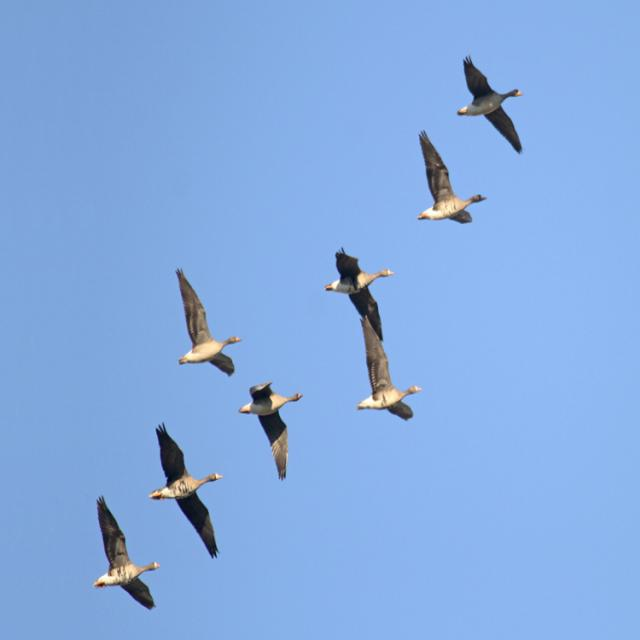bird: (151, 423, 227, 558), (354, 303, 426, 421), (94, 494, 166, 607), (174, 266, 246, 374), (239, 381, 308, 482), (459, 55, 528, 150), (420, 128, 489, 222), (324, 247, 398, 329)
